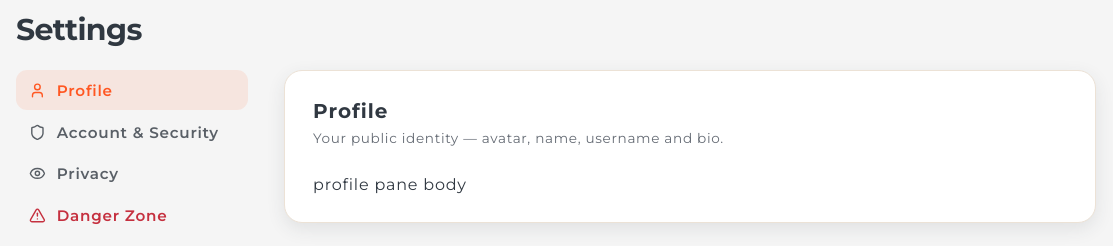
Test: Settings shell — unsaved-changes nav guard › allows rail navigation when the user confirms the discard
Click the link "Account & Security" at (124, 132), box [29,123,219,142]
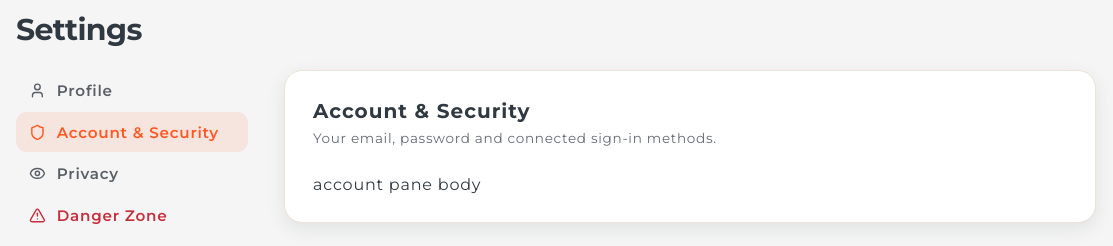
Expected: the text "Account & Security" is shown, [57,123,219,142]
Expected: the text "account pane body" is shown, [313,175,481,194]
